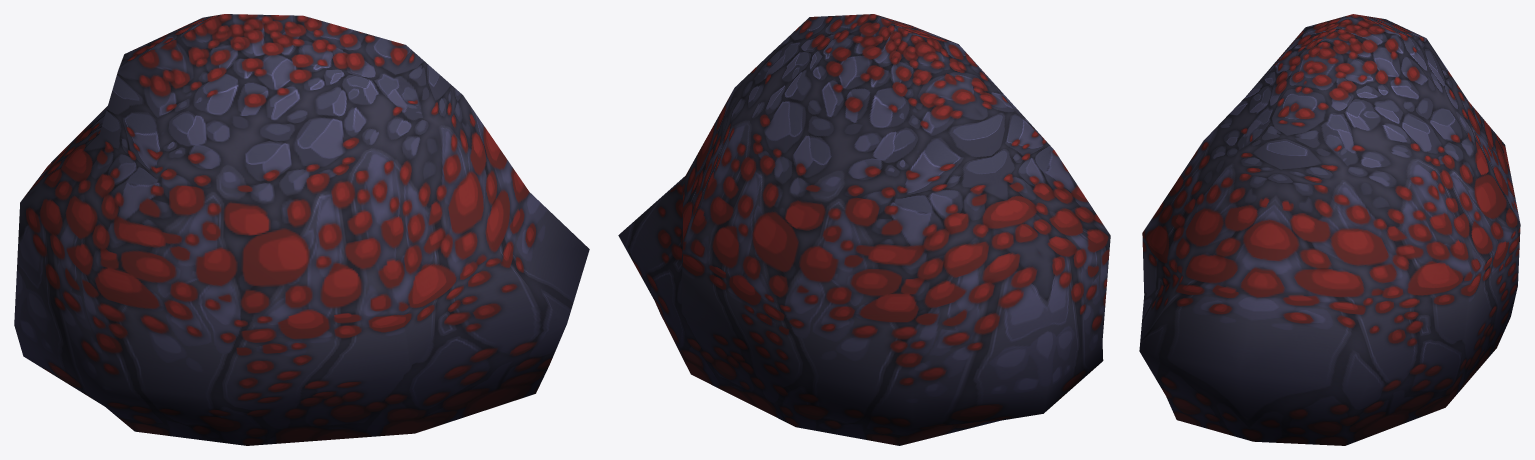
The model's file is Rock_03e.FBX.
3 renders of one model, left to right at view 1: azimuth 30°, elevation 25°; view 2: azimuth 150°, elevation 25°; view 3: azimuth 270°, elevation 25°, orthographic. The views are drawn at different scales.
Visible parts, largest first — view 1: Rock_03e; view 2: Rock_03e; view 3: Rock_03e.
Part boxes in pixels (x1,y1,x2,y2): Rock_03e: (14,14,589,445); Rock_03e: (618,14,1110,445); Rock_03e: (1139,14,1520,445).
Size of the model in its own units: 92.57 by 66.48 by 72.8.
